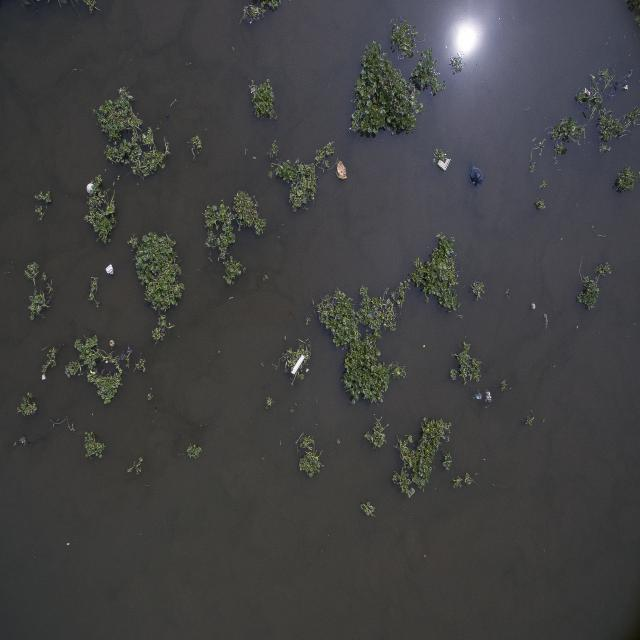debris: (290, 356, 306, 375), (434, 155, 453, 170), (333, 160, 348, 178), (104, 262, 116, 276), (86, 180, 96, 196), (583, 84, 592, 97), (39, 371, 48, 381)
plastic: (610, 70, 635, 96), (472, 388, 494, 406), (468, 165, 485, 188), (120, 345, 132, 363), (542, 311, 552, 329), (252, 155, 257, 162), (165, 112, 170, 119)
